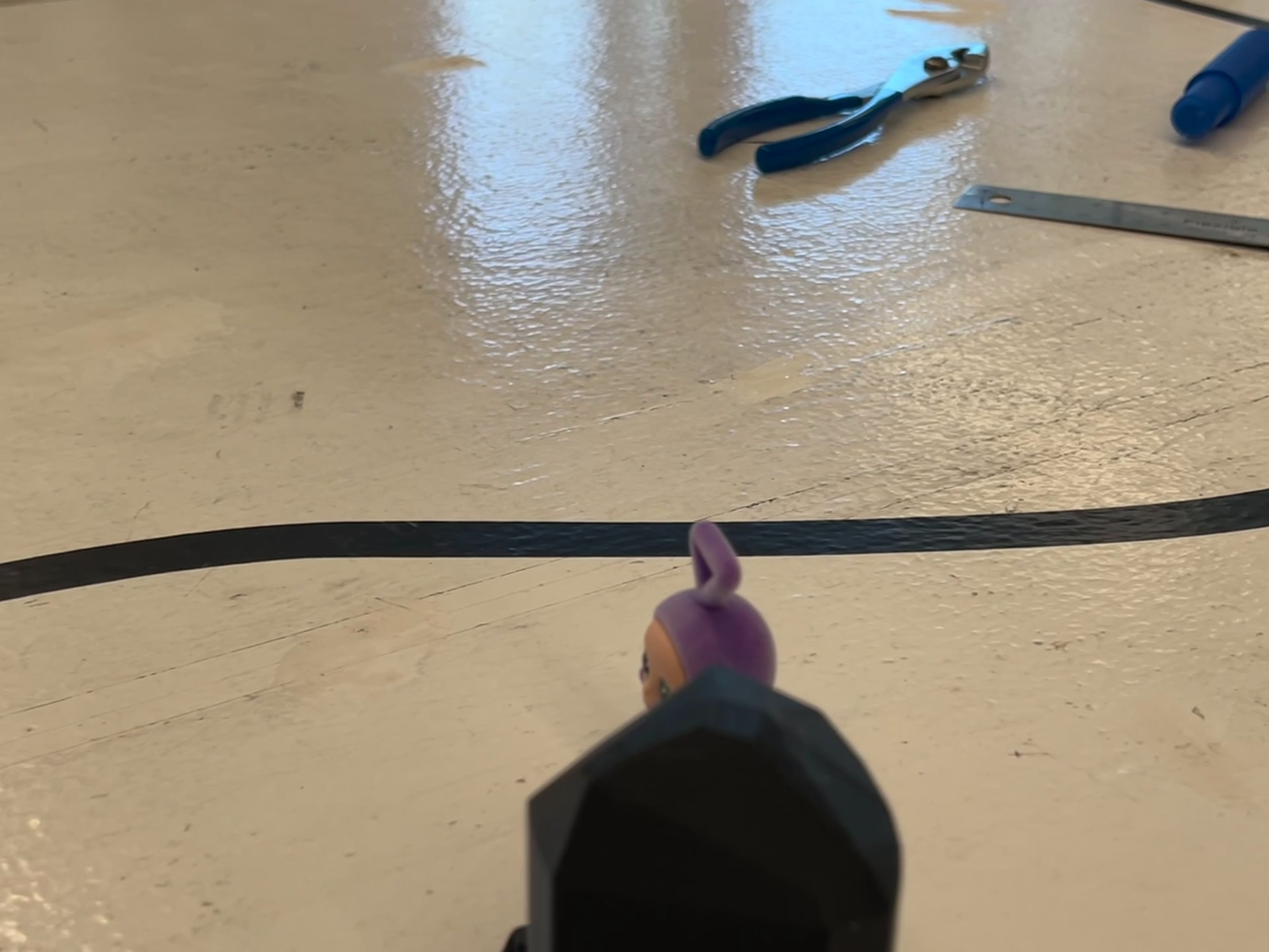teletubby: (638, 522, 776, 709)
